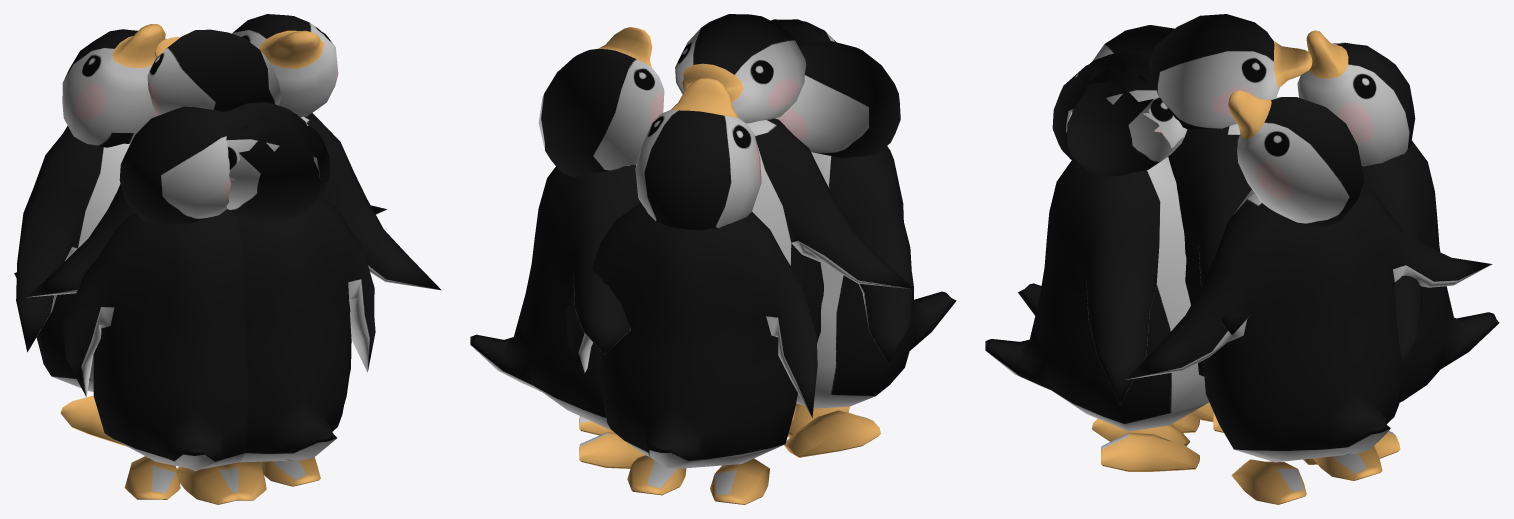
The model's file is ChMD_penguin_SET_static.fbx.
3 renders of one model, left to right at view 1: azimuth 30°, elevation 25°; view 2: azimuth 150°, elevation 25°; view 3: azimuth 270°, elevation 25°, orthographic. The views are drawn at different scales.
Visible parts, largest first — view 1: MD_Penguin_04s, MD_Penguin_02s, MD_Penguin_06s, MD_Penguin_03s, MD_Penguin_01s, MD_Penguin_05s; view 2: MD_Penguin_06s, MD_Penguin_03s, MD_Penguin_04s, MD_Penguin_01s, MD_Penguin_02s, MD_Penguin_05s; view 3: MD_Penguin_03s, MD_Penguin_02s, MD_Penguin_06s, MD_Penguin_01s, MD_Penguin_05s, MD_Penguin_04s.
Part boxes in pixels (x1,y1,x2,y2): MD_Penguin_04s: [62, 106, 266, 500]; MD_Penguin_02s: [176, 102, 375, 504]; MD_Penguin_06s: [14, 24, 166, 446]; MD_Penguin_03s: [232, 14, 441, 290]; MD_Penguin_01s: [26, 29, 386, 297]; MD_Penguin_05s: [220, 105, 330, 206]; MD_Penguin_06s: [564, 78, 817, 504]; MD_Penguin_03s: [470, 27, 664, 468]; MD_Penguin_04s: [775, 41, 956, 457]; MD_Penguin_01s: [675, 14, 913, 421]; MD_Penguin_02s: [771, 19, 849, 437]; MD_Penguin_05s: [772, 19, 834, 46]; MD_Penguin_03s: [1125, 90, 1492, 504]; MD_Penguin_02s: [985, 53, 1208, 471]; MD_Penguin_06s: [1297, 30, 1499, 464]; MD_Penguin_01s: [1148, 14, 1312, 432]; MD_Penguin_05s: [1066, 51, 1183, 176]; MD_Penguin_04s: [1018, 25, 1213, 446].
Size of the model in its own units: 125 by 133 by 145.
